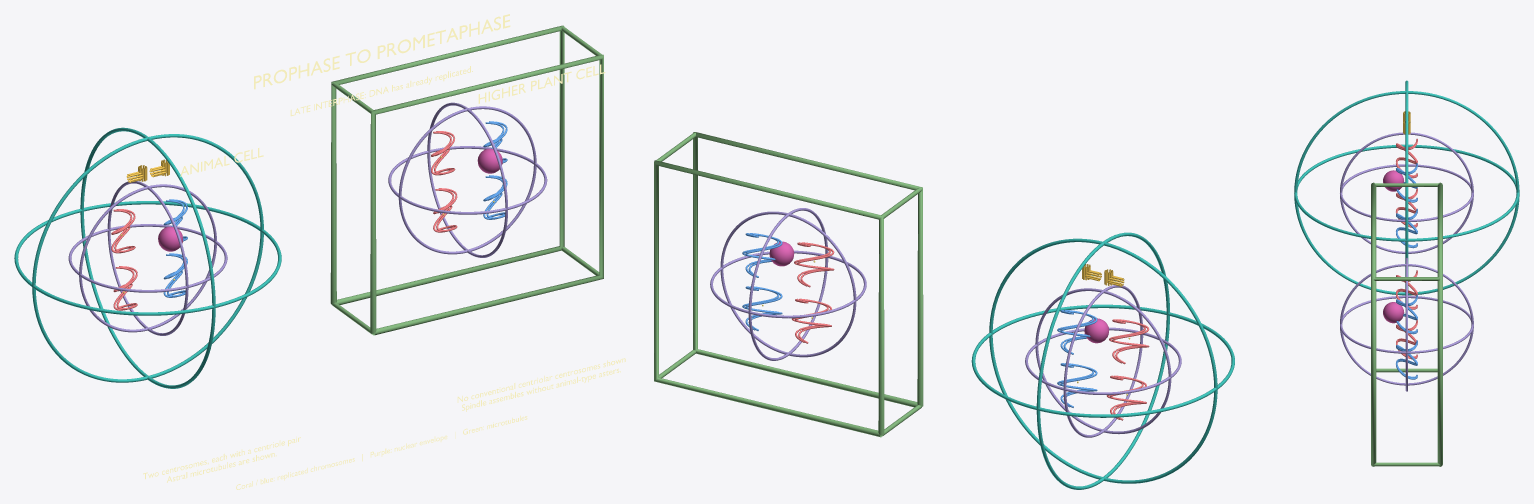
The model's file is prophase.glb.
3 views of the same model, side by side, from view 1: azimuth 30°, elevation 25°; view 2: azimuth 150°, elevation 25°; view 3: azimuth 270°, elevation 25° (orthographic). The views are drawn at different scales.
Parts seen in each view (by area): view 1: Plant cell wall.001, Plant cell wall, Animal plasma membrane, Animal plasma membrane.002, Animal plasma membrane.001, Label: PROPHASE TO PROMETAPHASE, Label: No conventional centriolar centrosomes shownSpindle a, Label: Coral / blue: replicated chromosomes | Purple: nucle, Label: Two centrosomes, each with a centriole pairAstral mic; view 2: Plant cell wall.001, Plant cell wall, Animal plasma membrane, Animal plasma membrane.002, Animal plasma membrane.001; view 3: Animal plasma membrane.002, Animal plasma membrane.001, Plant cell wall.001, Plant cell wall, Animal plasma membrane, Nucleolus, Wall depth.002, Nucleolus.001, Wall depth.
Boxes of the visible parts, x1,y1,x2,y2 form: Plant cell wall.001: (330,25,564,304); Plant cell wall: (370,54,603,335); Animal plasma membrane: (32,134,263,382); Animal plasma membrane.002: (80,127,215,388); Animal plasma membrane.001: (14,201,281,315); Label: PROPHASE TO PROMETAPHASE: (254,14,510,89); Label: No conventional centriolar centrosomes shownSpindle a: (457,358,625,411); Label: Coral / blue: replicated chromosomes | Purple: nucle: (236,415,527,489); Label: Two centrosomes, each with a centriole pairAstral mic: (143,436,300,482); Plant cell wall.001: (654,160,884,437); Plant cell wall: (693,132,923,407); Animal plasma membrane: (989,238,1217,483); Animal plasma membrane.002: (1036,232,1169,489); Animal plasma membrane.001: (971,304,1234,417); Animal plasma membrane.002: (1294,91,1519,295); Animal plasma membrane.001: (1294,144,1519,241); Plant cell wall.001: (1437,182,1442,466); Plant cell wall: (1371,182,1376,466); Animal plasma membrane: (1405,80,1408,303); Nucleolus: (1383,302,1404,323); Wall depth.002: (1373,462,1440,466); Nucleolus.001: (1383,170,1403,191); Wall depth: (1376,368,1437,372).
Bounding box in the file's own units: 12.08 × 8.62 × 5.34.
